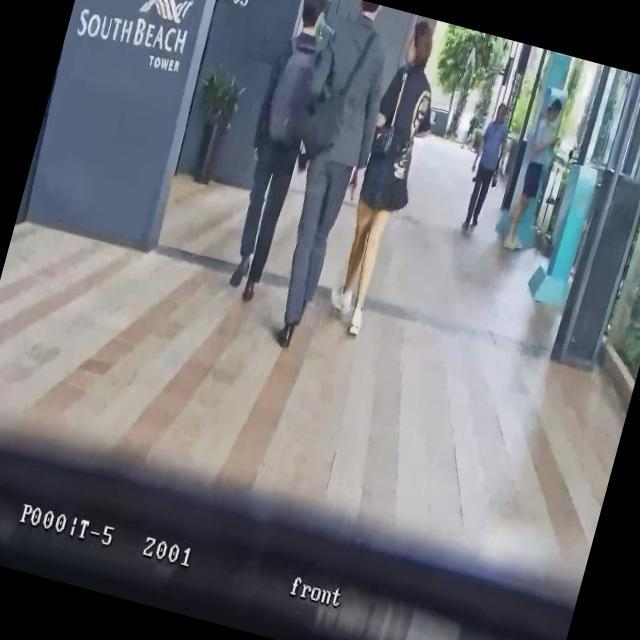person: (242, 0, 408, 356), (320, 15, 454, 342), (209, 0, 344, 306), (500, 93, 570, 256), (456, 98, 518, 236)
